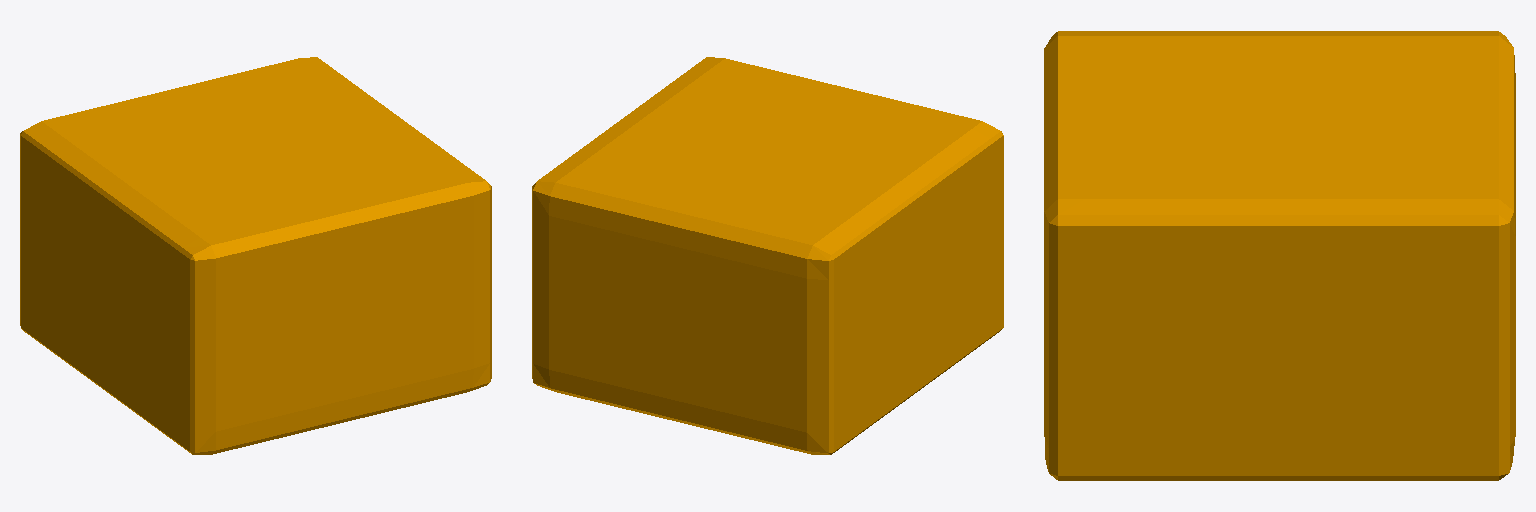
The robot description file, URDF, robot "cylinder_box_25":
<?xml version="1.0" encoding="utf-8"?>  <robot name="cylinder_box_25">   <link name="cylinder_box_25">     <visual>       <geometry>         <mesh filename="../meshes/box/box_25.stl" scale="1 1 1"/>       </geometry>     </visual>     <collision>       <geometry>         <mesh filename="../meshes/box/box_25.stl" scale="1 1 1"/>       </geometry>     </collision>     <inertial>        <origin         xyz="0 0 0"         rpy="0 0 0" />       <mass value="0.3771513574394684"/>       <origin rpy="0 0 0" xyz="0 0 0"/>       <inertia ixx="0.0003185203778660527" ixy="4.8215741312710055e-09" ixz="3.827708789611503e-09" iyy="0.00030072303289655974" iyz="-1.545343676506934e-10" izz="0.0004350326800198921"/>     </inertial>   </link>  </robot>

--- What the picture shows (computed from the rendered views, not written in the file) ---
The picture shows the robot from 3 angles, left to right: view 1: azimuth 30°, elevation 25°; view 2: azimuth 150°, elevation 25°; view 3: azimuth 270°, elevation 25°; orthographic projection.
Robot: cylinder_box_25 — 1 links, 0 joints (none); root link cylinder_box_25; default pose: every joint at zero.
Visible links, largest first — view 1: cylinder_box_25; view 2: cylinder_box_25; view 3: cylinder_box_25.
Link boxes in pixels (x1,y1,x2,y2): cylinder_box_25: [20, 57, 491, 454]; cylinder_box_25: [532, 57, 1003, 454]; cylinder_box_25: [1044, 31, 1515, 480].
Bounding box of the posed robot: 0.0819 × 0.0853 × 0.0545 m (x, y, z).
Meshes: 1 distinct files referenced, 1 mesh visuals loaded (1 binary STL).